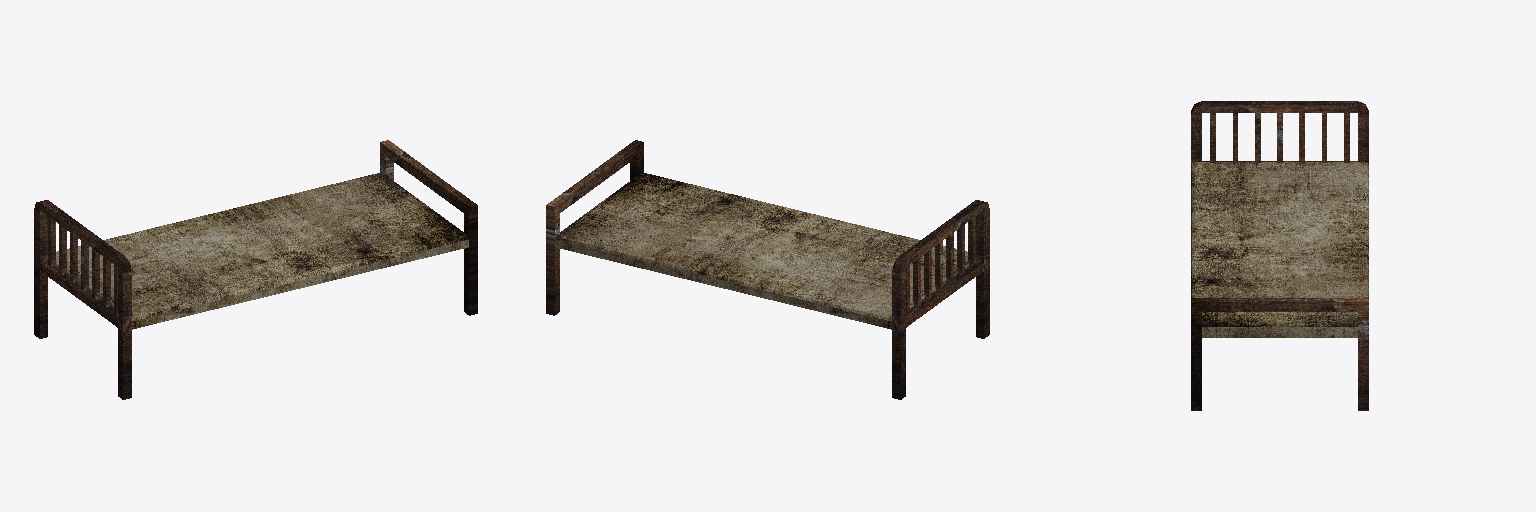
3 views of the same model, side by side, from view 1: azimuth 30°, elevation 25°; view 2: azimuth 150°, elevation 25°; view 3: azimuth 270°, elevation 25° (orthographic).
Visible parts, largest first — view 1: polySurface36; view 2: polySurface36; view 3: polySurface36.
Boxes of the visible parts, x1,y1,x2,y2 form: polySurface36: [34, 140, 477, 399]; polySurface36: [546, 140, 989, 399]; polySurface36: [1191, 101, 1368, 410].
Size of the model in its own units: 18.41 by 6.8 by 8.
Materials: 1 (1 with a texture image).